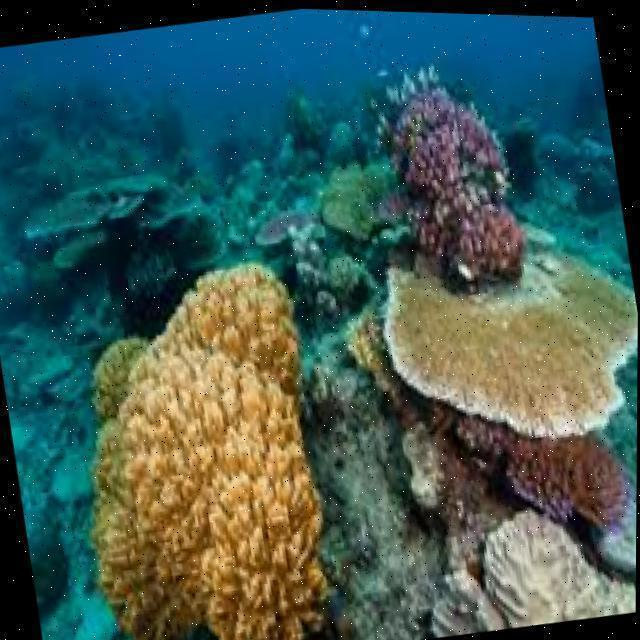Dead Coral: (440, 514, 640, 628)
